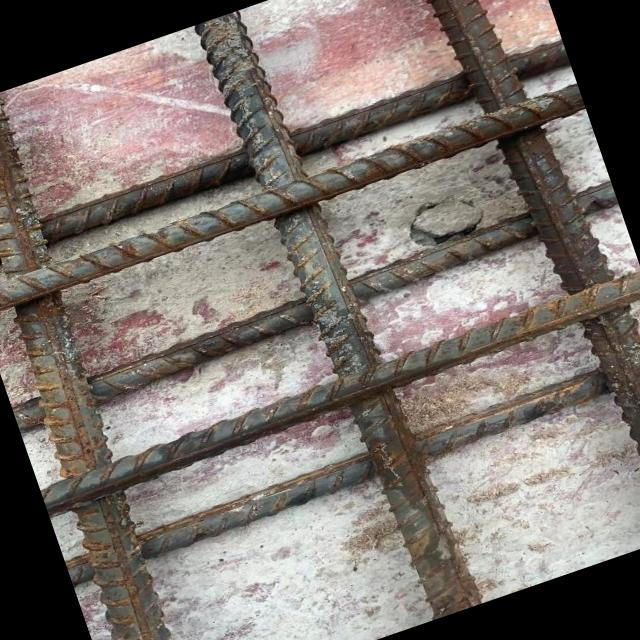ribbed bar: (193, 0, 482, 629), (6, 180, 626, 436), (35, 268, 640, 518), (61, 343, 640, 589), (0, 81, 585, 319), (0, 37, 570, 275), (404, 0, 640, 557), (0, 92, 211, 640)
